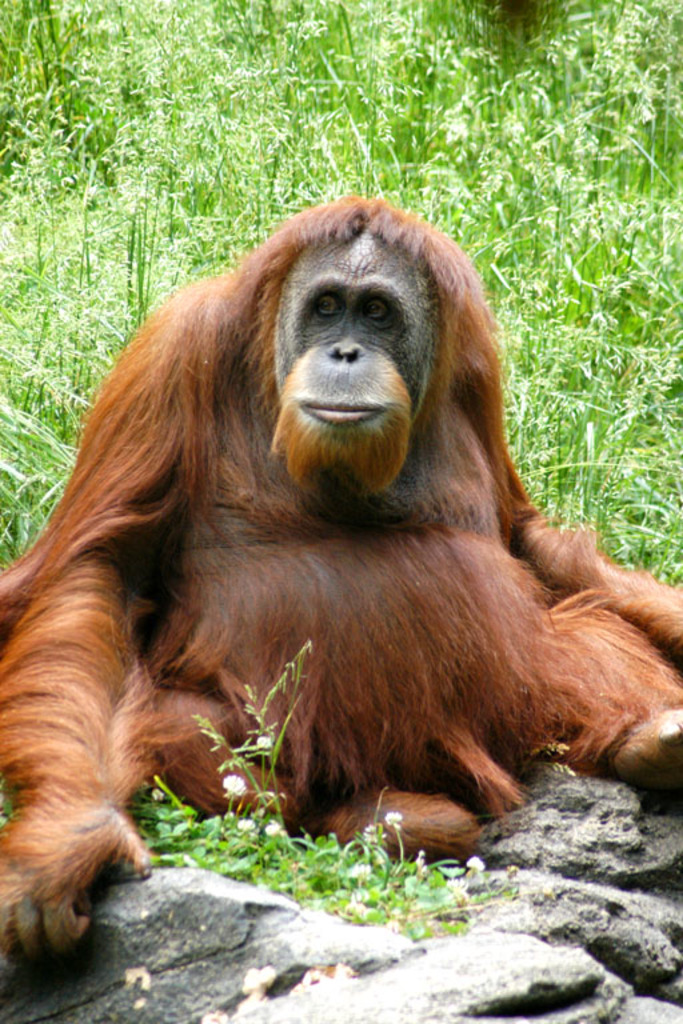face: (278, 210, 418, 518)
